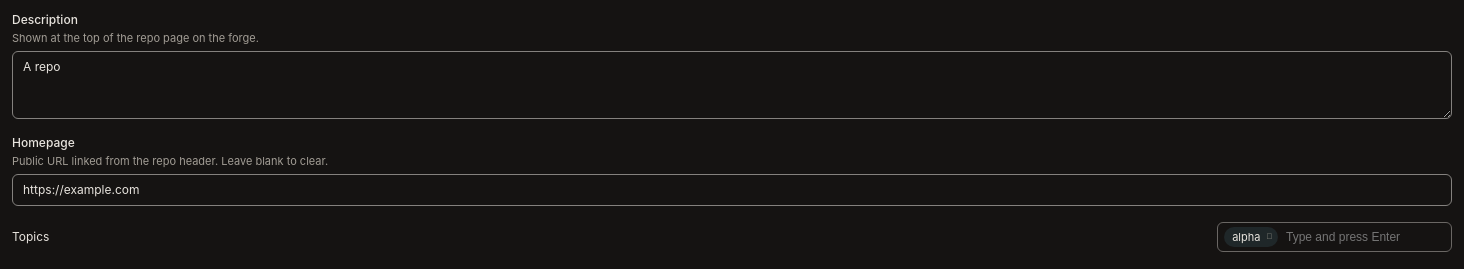
GeneralSection › adds a chip when the user types and presses Enter
The width and height of the screenshot is (1464, 269).
Type "beta" into the field with test id "repo-config-topic-input". click: (1364, 237)
box: [1282,228,1445,246]
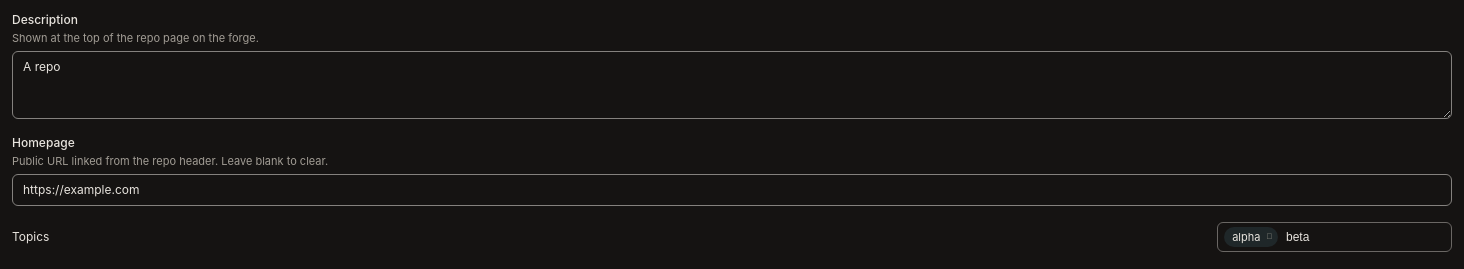
Press Enter in the field with test id "repo-config-topic-input", box [1282,228,1445,246]
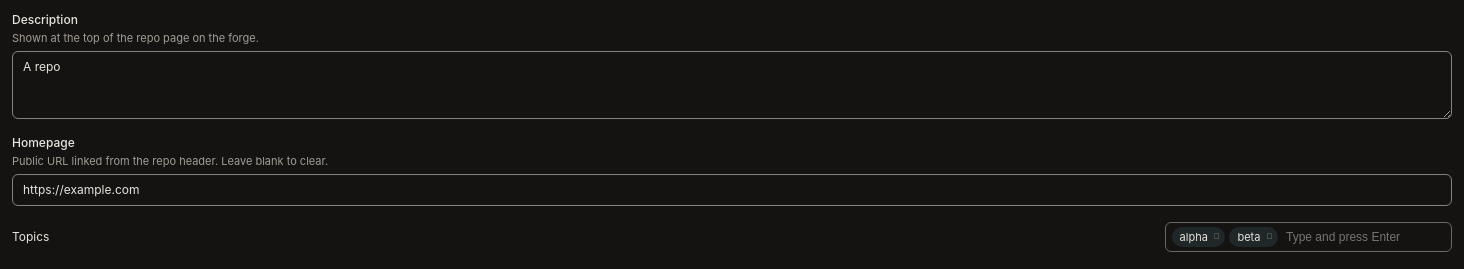
Expected: the number of elements with test id "repo-config-topic-chip" is 2, [1172,227,1226,247]; [1229,227,1278,247]
Expected: the text "beta" is shown, [1237,228,1260,246]
